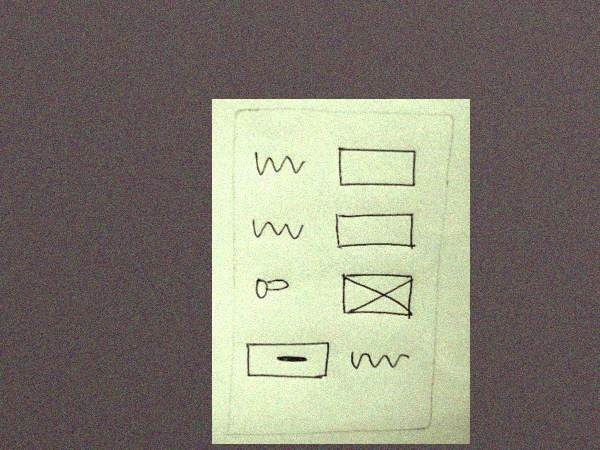button: (242, 338, 332, 383)
image: (334, 267, 421, 318)
switch: (252, 272, 294, 304)
text: (348, 346, 416, 378), (249, 148, 309, 181), (249, 213, 307, 244)
text_input: (333, 144, 421, 196), (334, 207, 417, 254)
